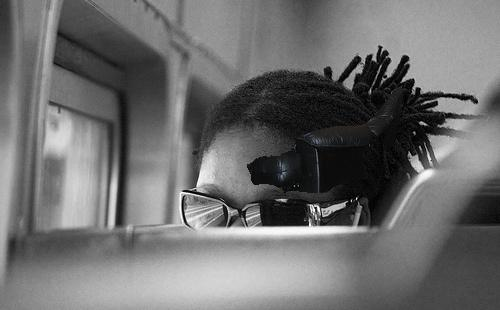tampered: (248, 87, 403, 193)
